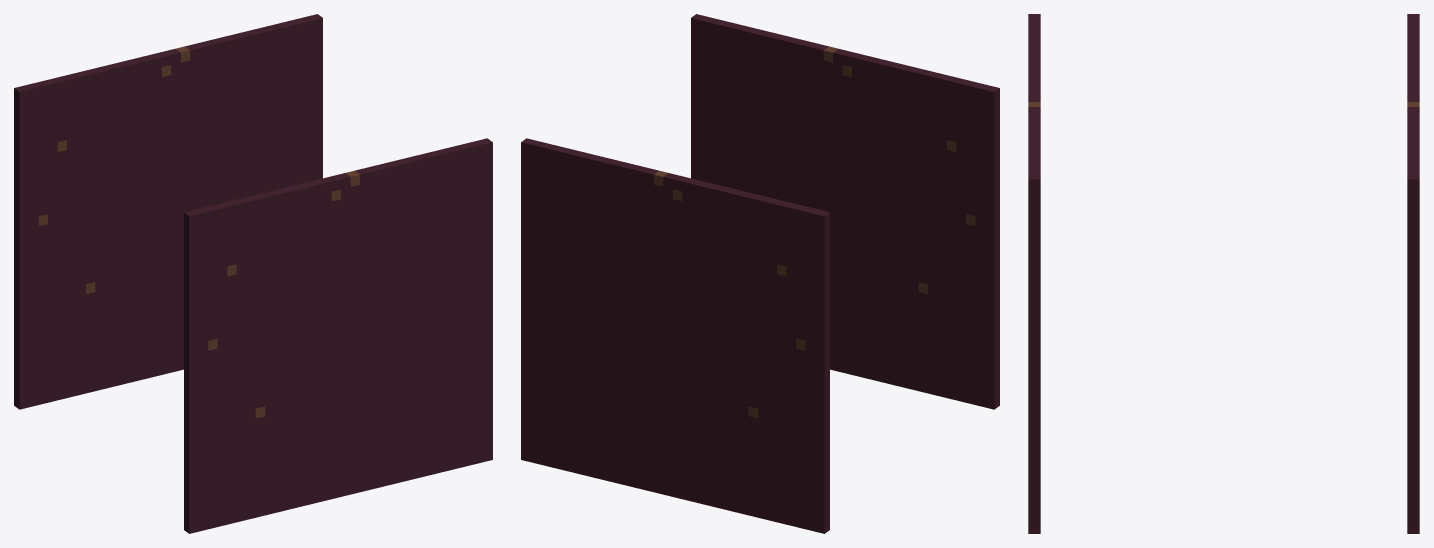
3 views of the same model, side by side, from view 1: azimuth 30°, elevation 25°; view 2: azimuth 150°, elevation 25°; view 3: azimuth 270°, elevation 25° (orthographic). The views are drawn at different scales.
Parts seen in each view (by area): view 1: test-67; view 2: test-67; view 3: test-67.
Part boxes in pixels (bbox=[...]): test-67: bbox=[14, 14, 492, 533]; test-67: bbox=[521, 14, 999, 533]; test-67: bbox=[1028, 14, 1419, 533].
Size of the model in its own units: 32 by 32 by 32.
Materials: 1 (1 with a texture image).
